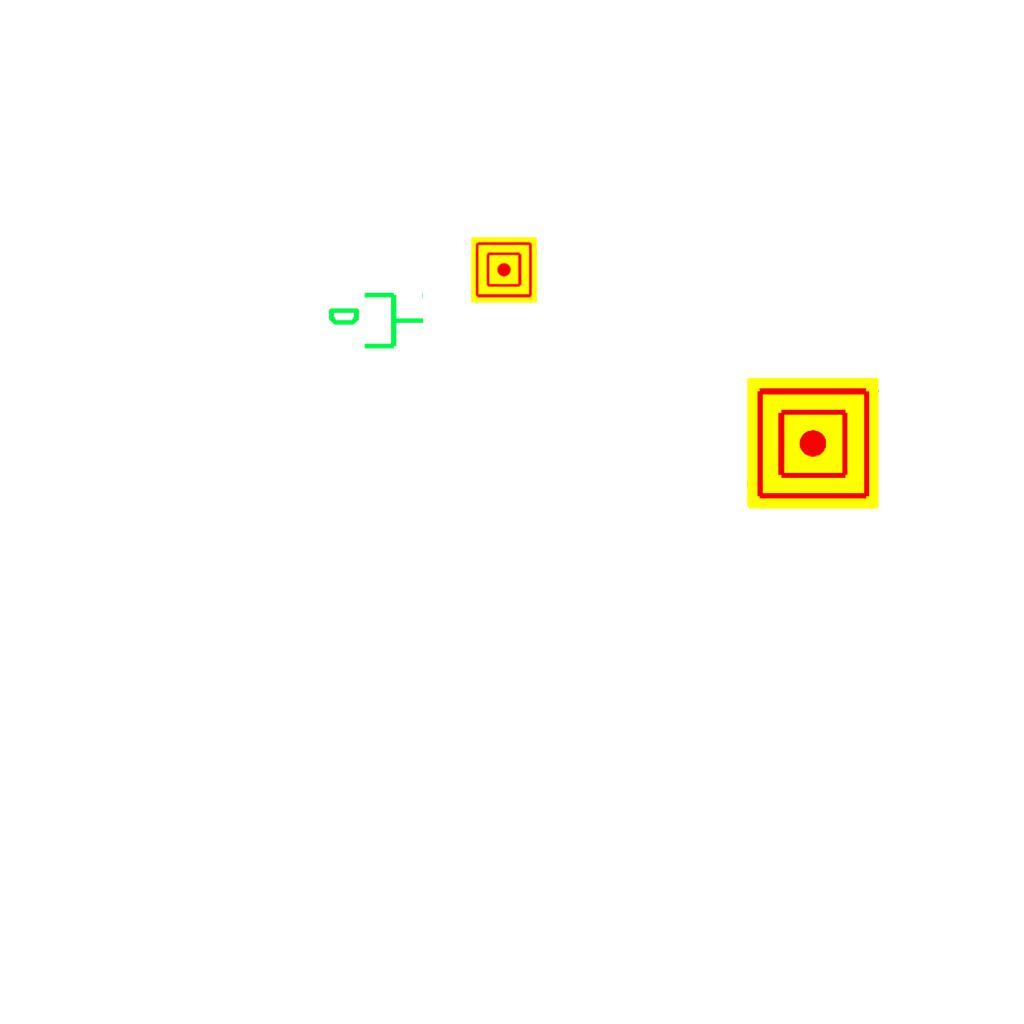Datenanschluss_einfach: (326, 288, 426, 357)
NAM-Nichtautomatischer_Melder: (747, 377, 879, 509), (471, 237, 537, 303)
